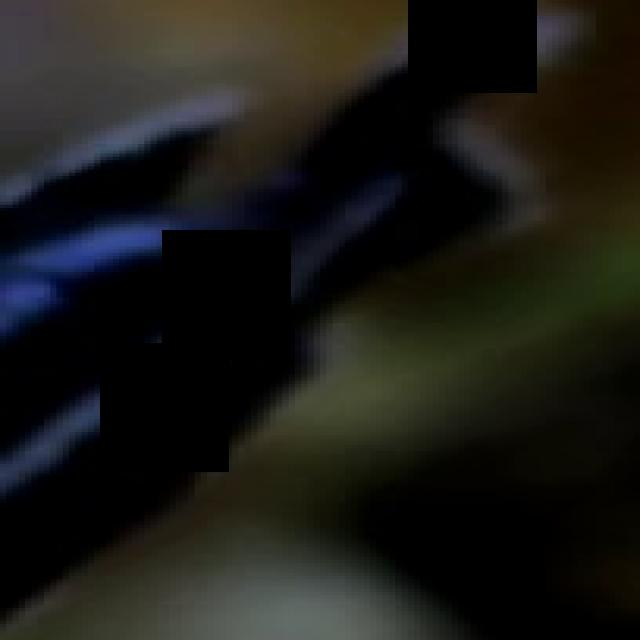fish: (6, 3, 640, 640)
